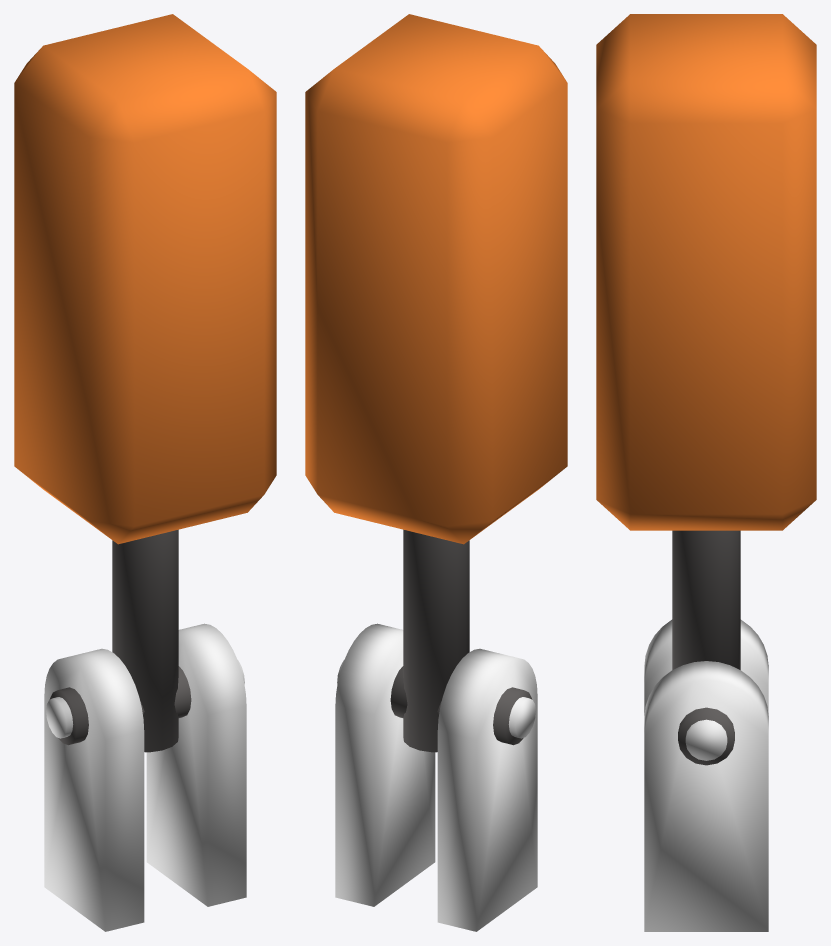
Rendered from Obstacle 23 V3.fbx.
3 views of the same model, side by side, from view 1: azimuth 30°, elevation 25°; view 2: azimuth 150°, elevation 25°; view 3: azimuth 270°, elevation 25° (orthographic).
Visible parts, largest first — view 1: O23 Part 2, O23 Part 1; view 2: O23 Part 2, O23 Part 1; view 3: O23 Part 2, O23 Part 1.
Part boxes in pixels (x1,y1,x2,y2): O23 Part 2: [14, 14, 276, 752]; O23 Part 1: [44, 623, 246, 931]; O23 Part 2: [305, 14, 567, 752]; O23 Part 1: [335, 623, 537, 931]; O23 Part 2: [596, 14, 816, 765]; O23 Part 1: [644, 619, 768, 931].
Size of the model in its own units: 68.06 by 290 by 68.06.
Materials: 1 (1 with a texture image).
